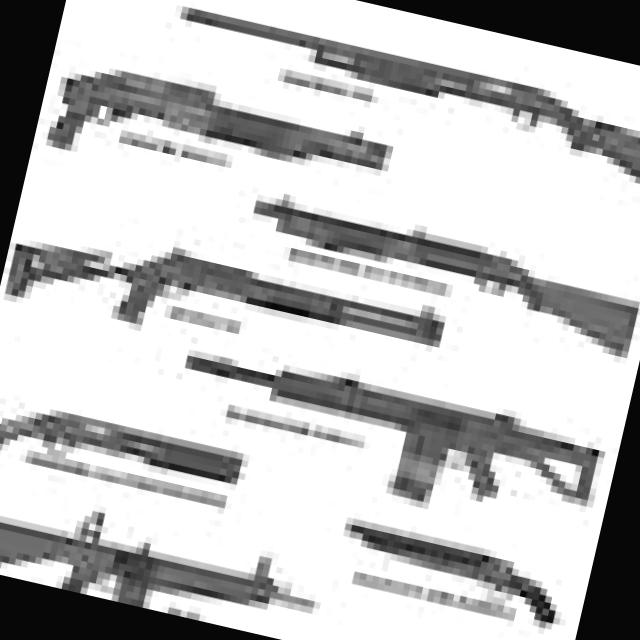long weapon: (165, 324, 622, 555), (183, 0, 640, 226), (223, 173, 640, 383), (0, 207, 451, 374), (50, 55, 398, 205), (0, 493, 303, 626), (0, 379, 261, 521), (332, 497, 583, 640)
